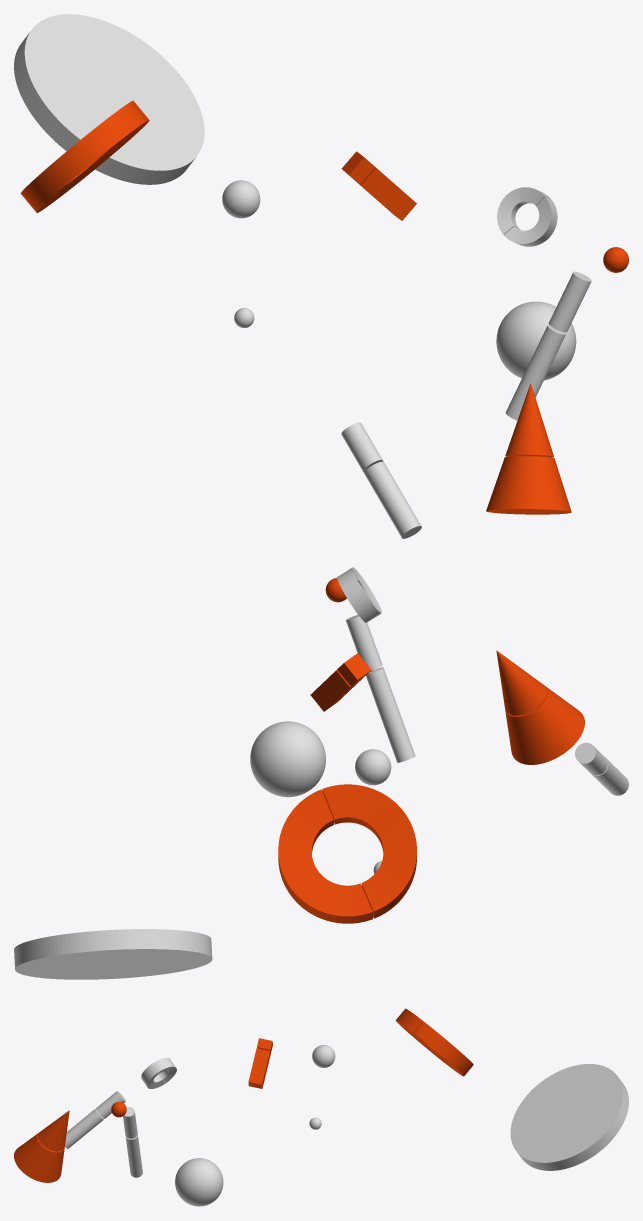
Rendered from floating_shapes2.glb.
3 renders of one model, top to bottom at view 1: azimuth 30°, elevation 25°; view 2: azimuth 150°, elevation 25°; view 3: azimuth 270°, elevation 25°, orthographic. The views are drawn at different scales.
Visible parts, largest first — view 1: Cylinder.002, Cylinder.007, Cylinder.006, Sphere.001, Cylinder.003, Cylinder.005, Cylinder.009, Cube.002, Sphere.003; view 2: Cylinder.006, Cylinder.002, Cylinder.007, Sphere.001, Cylinder.003, Cube.002, Cylinder.005, Cylinder.009, Sphere.003; view 3: Cylinder.002, Cylinder.007, Sphere.001, Cylinder.006, Cylinder.005, Cylinder.003, Cube.002, Cylinder.009, Sphere.003.
Part boxes in pixels (x1,y1,x2,y2): Cylinder.002: (14,14,204,184); Cylinder.007: (486,383,571,514); Cylinder.006: (20,100,149,212); Sphere.001: (496,301,576,380); Cylinder.003: (505,271,591,420); Cylinder.005: (341,422,421,538); Cylinder.009: (497,187,557,246); Cube.002: (341,151,416,220); Sphere.003: (222,180,260,218); Cylinder.006: (278,784,416,923); Cylinder.002: (14,929,212,979); Cylinder.007: (496,650,584,764); Sphere.001: (250,721,325,797); Cylinder.003: (345,615,415,762); Cube.002: (310,653,370,711); Cylinder.005: (575,742,628,795); Cylinder.009: (337,567,381,622); Sphere.003: (355,749,391,785); Cylinder.002: (510,1064,628,1170); Cylinder.007: (14,1110,69,1182); Sphere.001: (175,1158,223,1206); Cylinder.006: (395,1008,473,1076); Cylinder.005: (65,1091,125,1148); Cylinder.003: (123,1107,142,1177); Cube.002: (248,1038,272,1088); Cylinder.009: (141,1058,176,1088); Sphere.003: (312,1045,335,1067).
Bounding box in the file's own units: 140 × 92.41 × 347.
